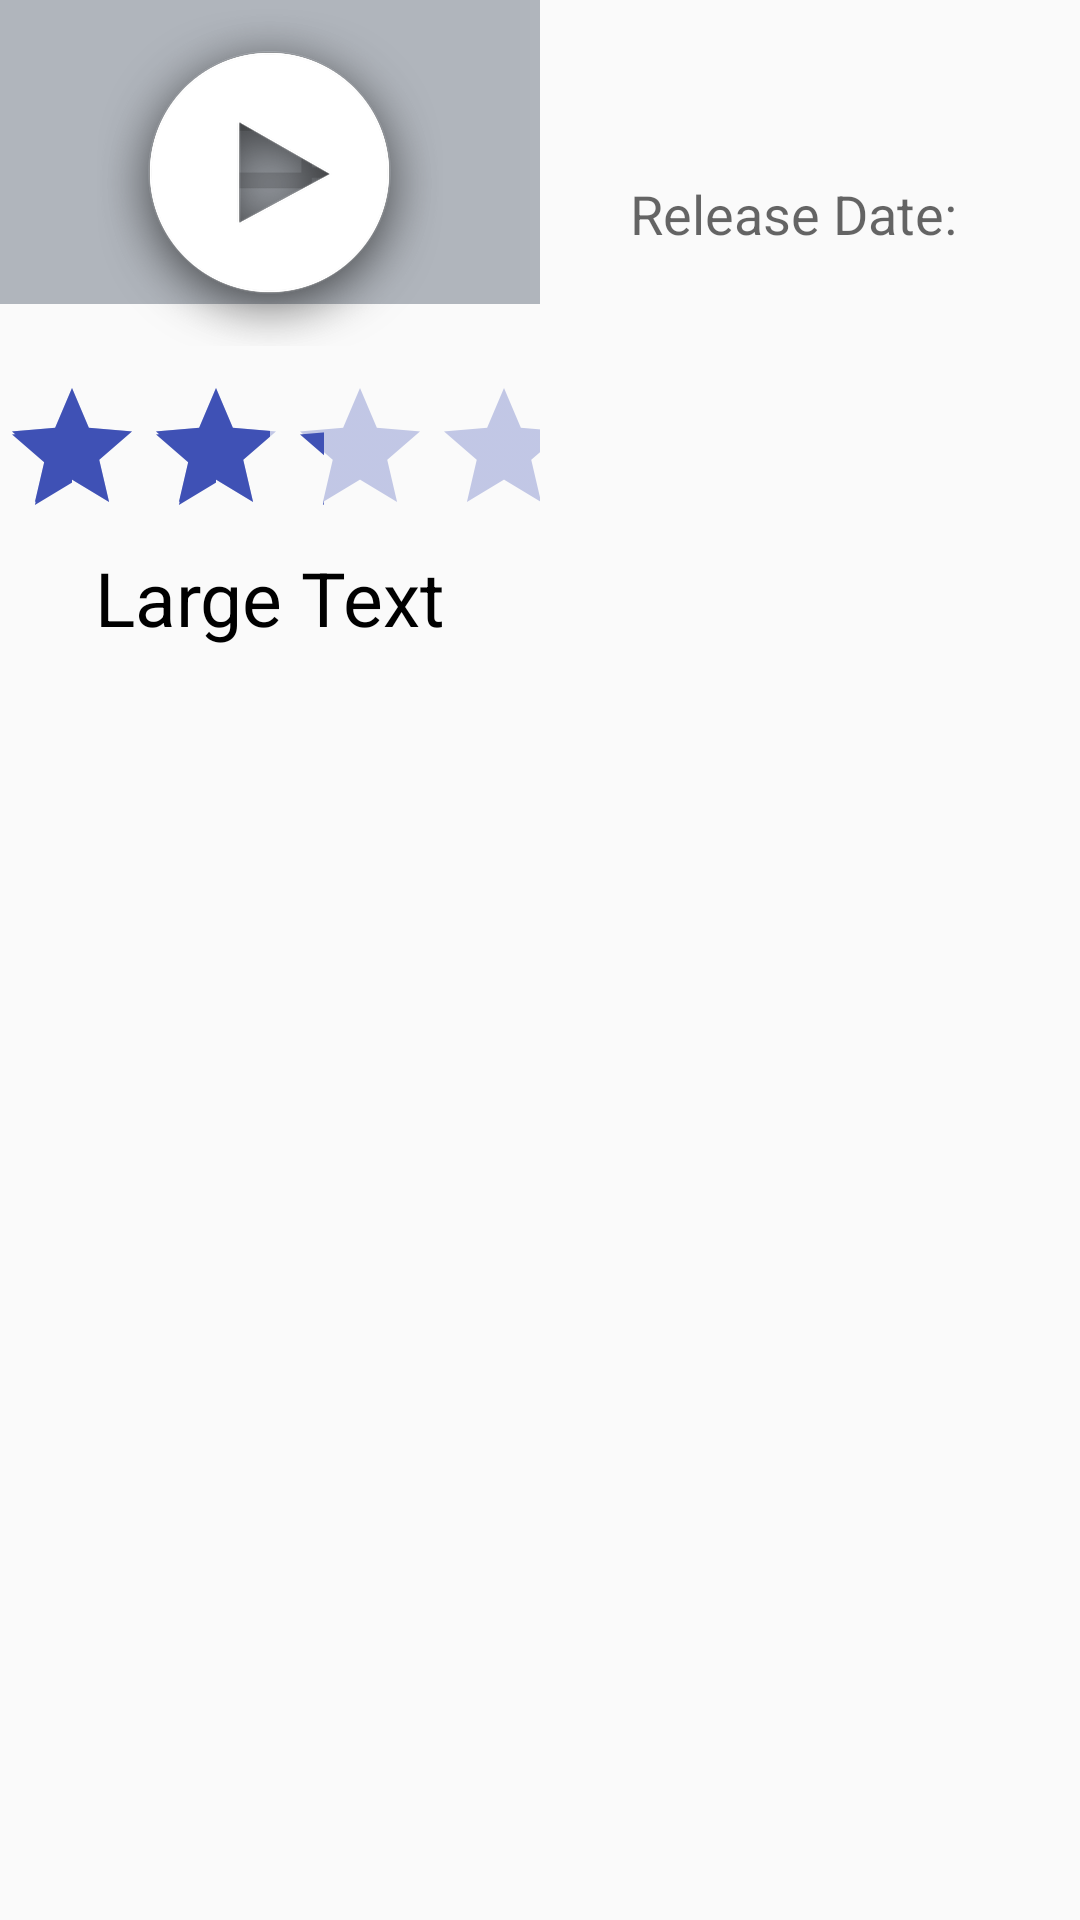

Named icons in this screenshot (1080*1920) and their centers, (x=x, y=y):
playiconshadow: (x=270, y=173)
